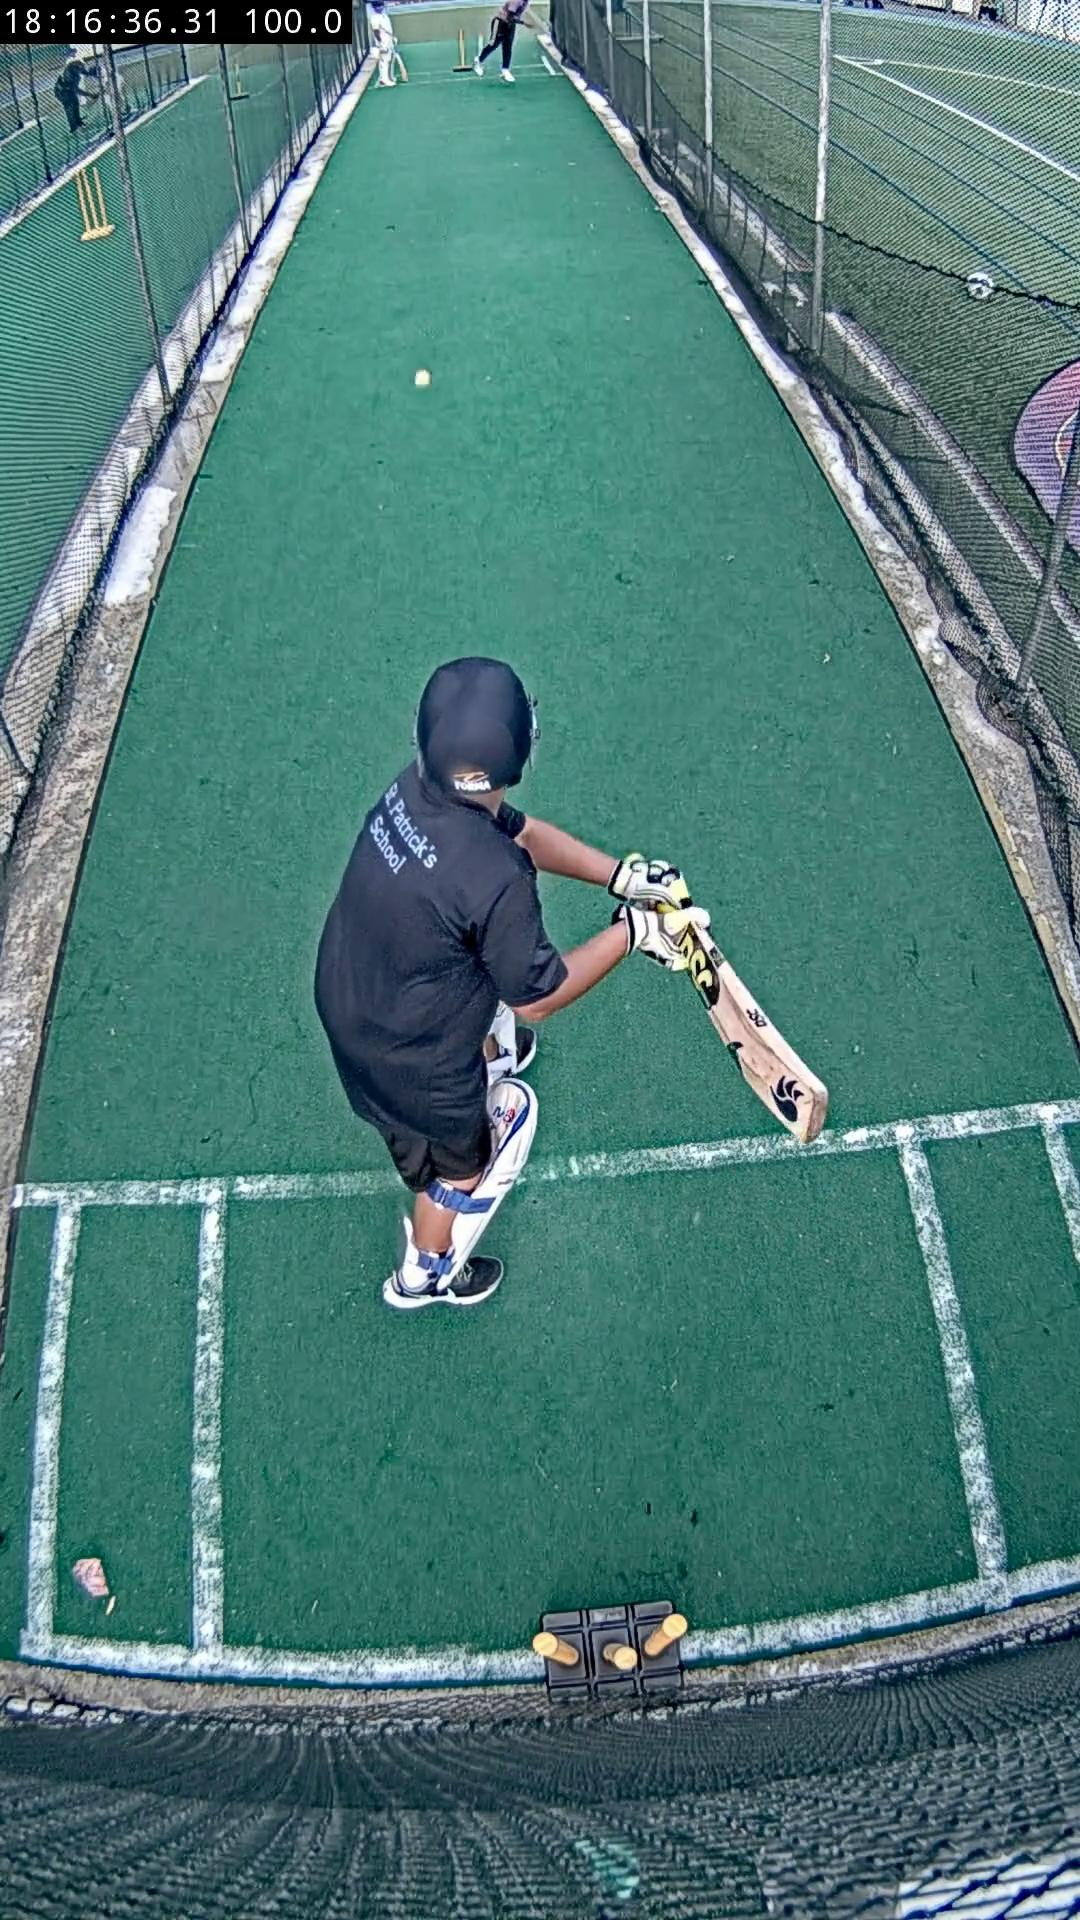ball: (413, 368, 431, 386)
bat: (686, 930, 828, 1143)
gloves: (608, 852, 708, 972)
helmet: (417, 657, 537, 799)
pads: (386, 1076, 537, 1299)
stumps: (533, 1601, 686, 1701)
